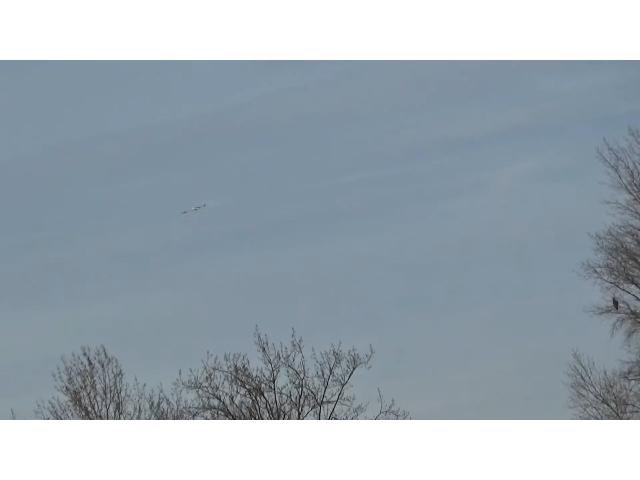Anti-Drone: (182, 205, 206, 214)
